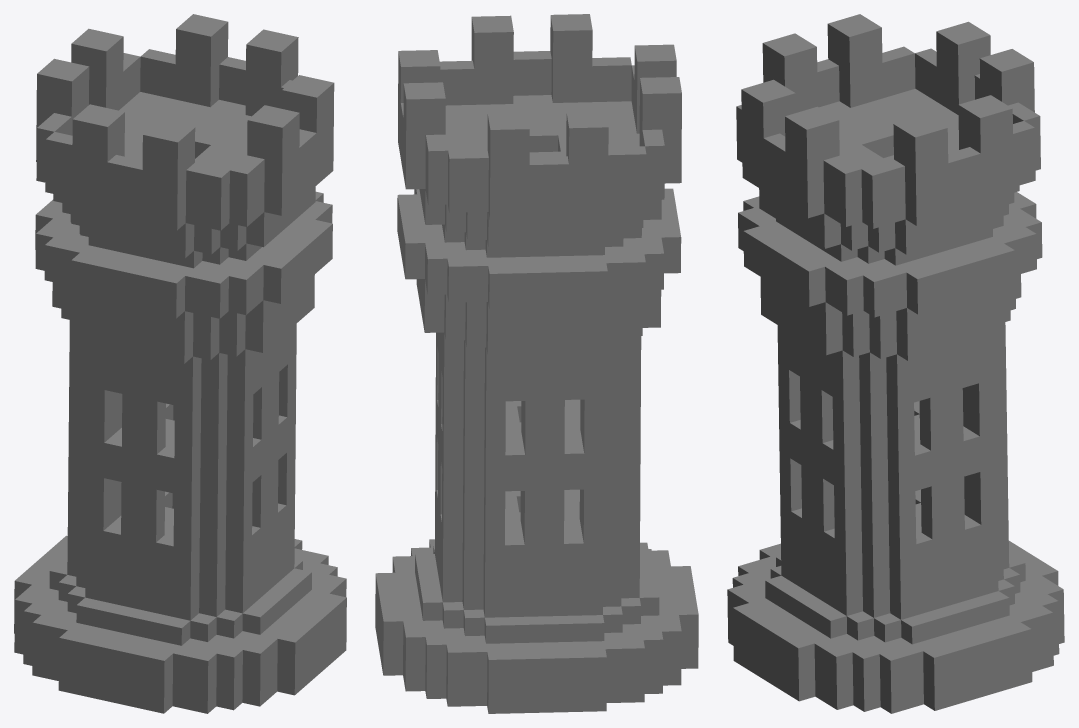
Rendered from Tower.fbx.
The picture shows the model from 3 angles, left to right: view 1: azimuth 30°, elevation 25°; view 2: azimuth 150°, elevation 25°; view 3: azimuth 270°, elevation 25°; orthographic projection.
Visible parts, largest first — view 1: node_id3; view 2: node_id3; view 3: node_id3.
Boxes of the visible parts, box(x1,y1,x2,y2) form: node_id3: box(14, 14, 346, 713); node_id3: box(375, 14, 698, 713); node_id3: box(727, 14, 1064, 713).
Bounding box in the file's own units: 0.5505 × 1.03 × 0.5516.
Materials: 1 (1 with a texture image).
